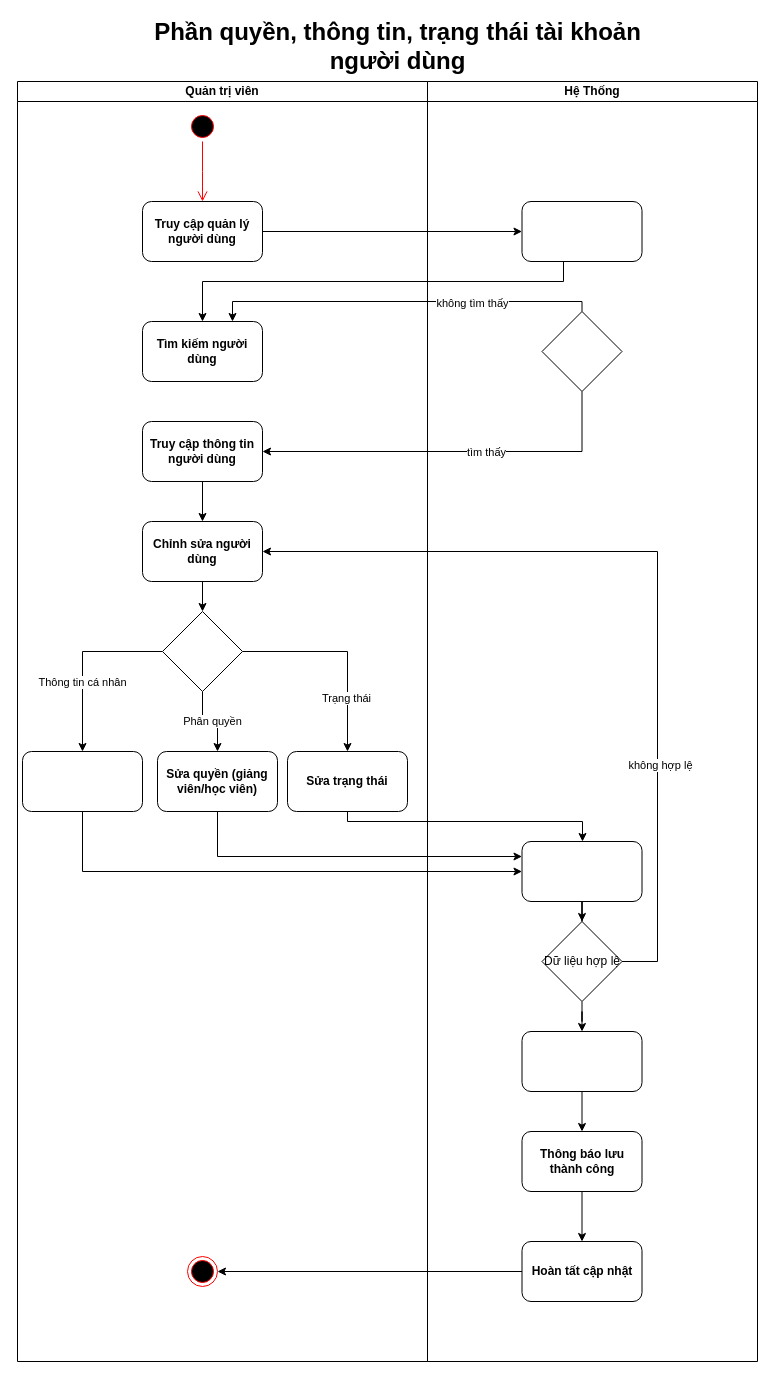
The diagram is 775 pixels wide and 1379 high, and some of its shapes have lost their labels. Each missing label, with the centre of its shape:
"Chọn loại thônh tin chỉnh sửa" belongs at pixel 202 651.
"Hiển thị danh sách người dùng" belongs at pixel 581 231.
"Kiểm tra dữ liệu" belongs at pixel 581 871.
"Lưu thay đổi" belongs at pixel 581 1061.
"Sửa thông tin cá nhân" belongs at pixel 82 781.
"Tìm kiếm theo từ khóa hoặc bộ lọc" belongs at pixel 581 351.
